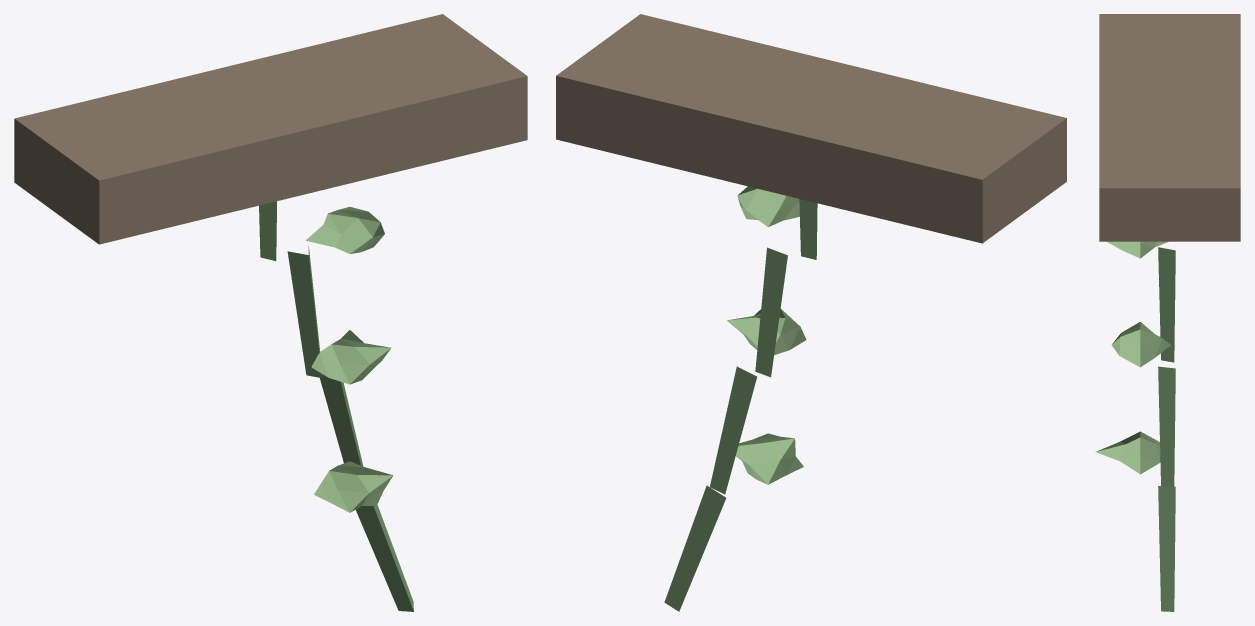
The model's file is vine_v15.glb.
The picture shows the model from 3 angles, left to right: view 1: azimuth 30°, elevation 25°; view 2: azimuth 150°, elevation 25°; view 3: azimuth 270°, elevation 25°; orthographic projection. The views are drawn at different scales.
Visible parts, largest first — view 1: lod0; view 2: lod0; view 3: lod0.
Boxes of the visible parts, bbox=[...] form: lod0: bbox=[14, 14, 527, 611]; lod0: bbox=[556, 14, 1066, 611]; lod0: bbox=[1096, 14, 1240, 611].
Size of what is drawn, in the model's own units: 0.7 by 0.8546 by 0.2465.
